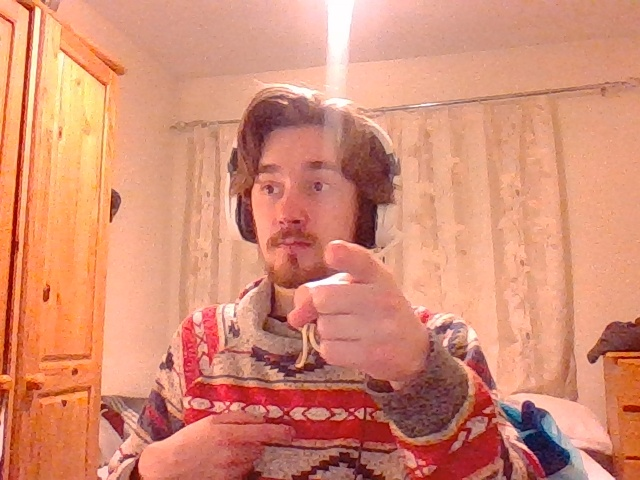you: (288, 240, 425, 378)
